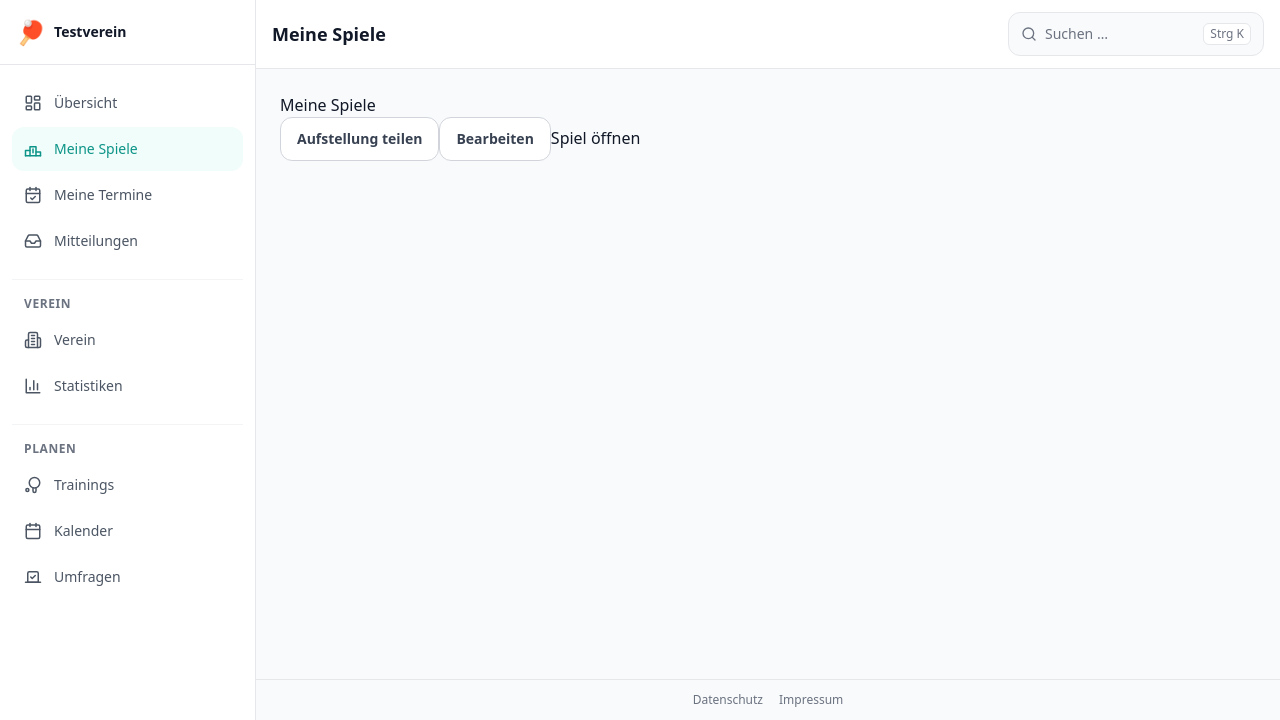
Test case: Zurückwischen schließt zuerst den Dialog › „Alle Treffer" in der Sofortsuche führt zur Suchseite und bleibt dort
This screenshot has width=1280, height=720.
Click the button "Suchen … Strg K". click: [1136, 34]
box: x1=1008 y1=12 x2=1264 y2=56
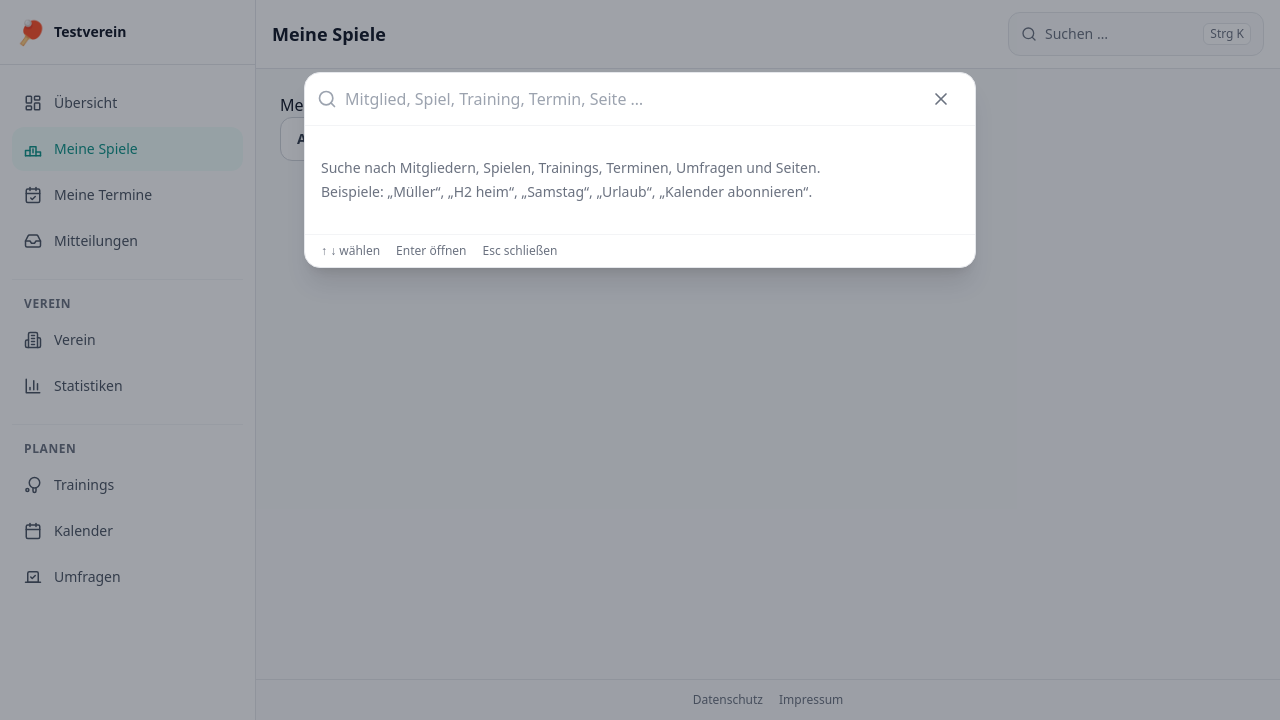
Type "meier" into the dropdown. click: [628, 99]
box: x1=345 y1=73 x2=911 y2=125
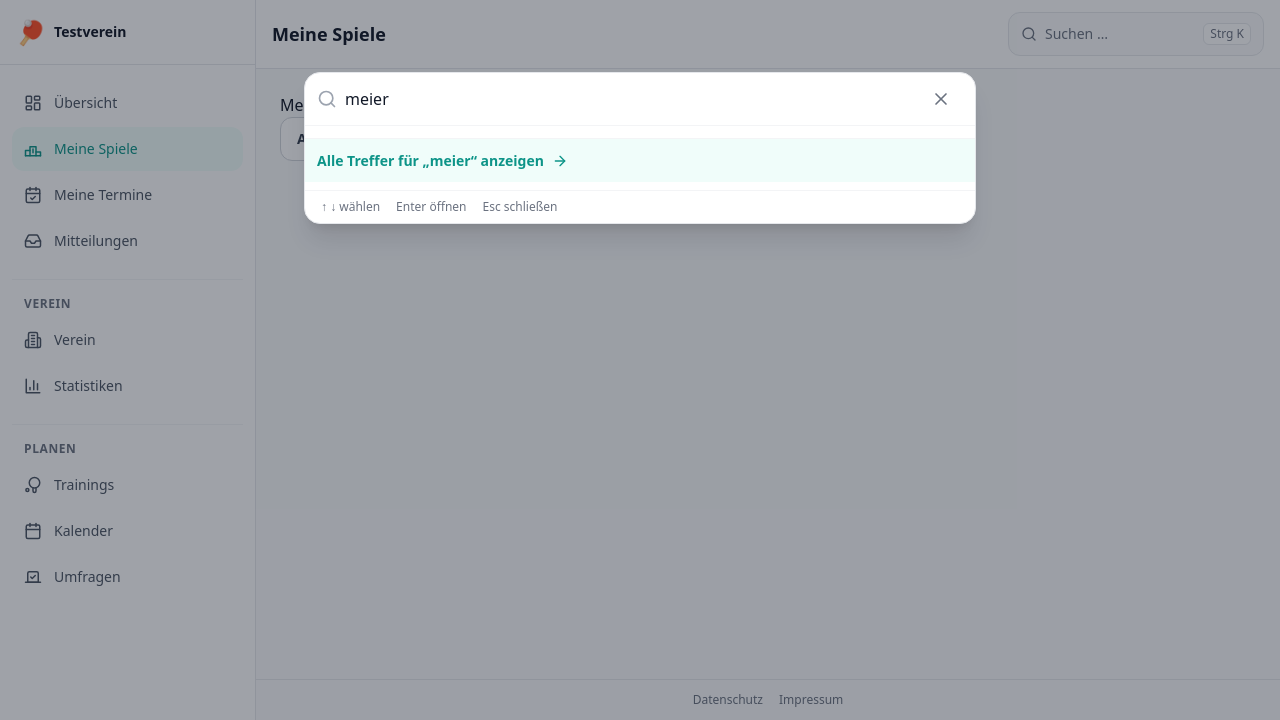
Click the option "Alle Treffer für „meier“ anzeigen". click: [640, 160]
box: x1=305 y1=138 x2=975 y2=182
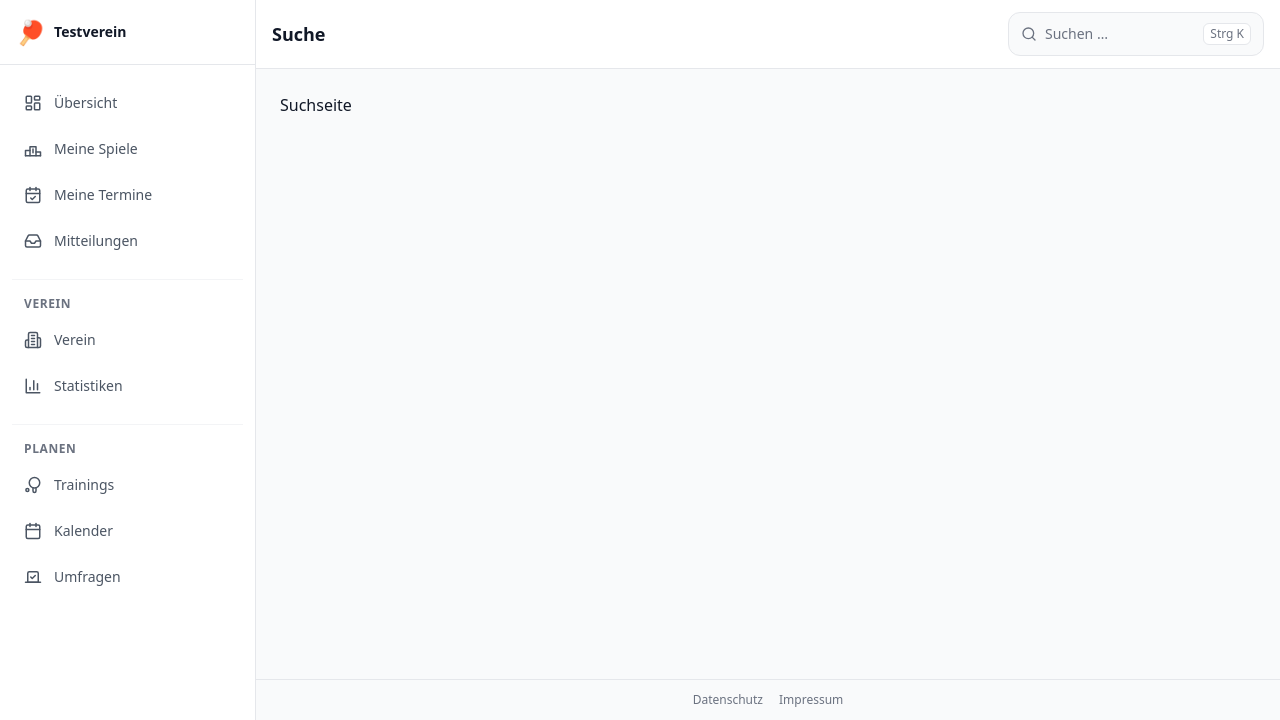
Expected: the heading "Suchseite" is shown, x1=280 y1=94 x2=352 y2=116
